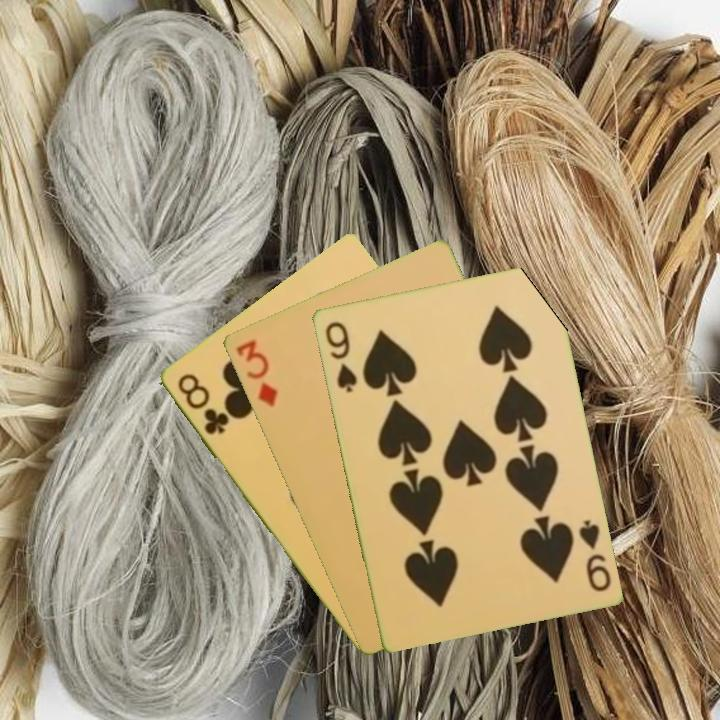3d: (231, 336, 280, 410)
8c: (173, 369, 232, 438)
9s: (574, 515, 614, 594), (321, 317, 360, 395)
